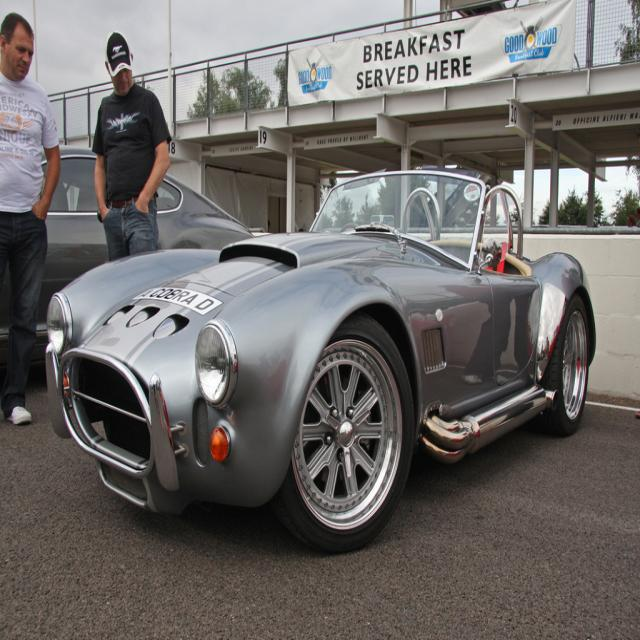car: (44, 165, 598, 554)
